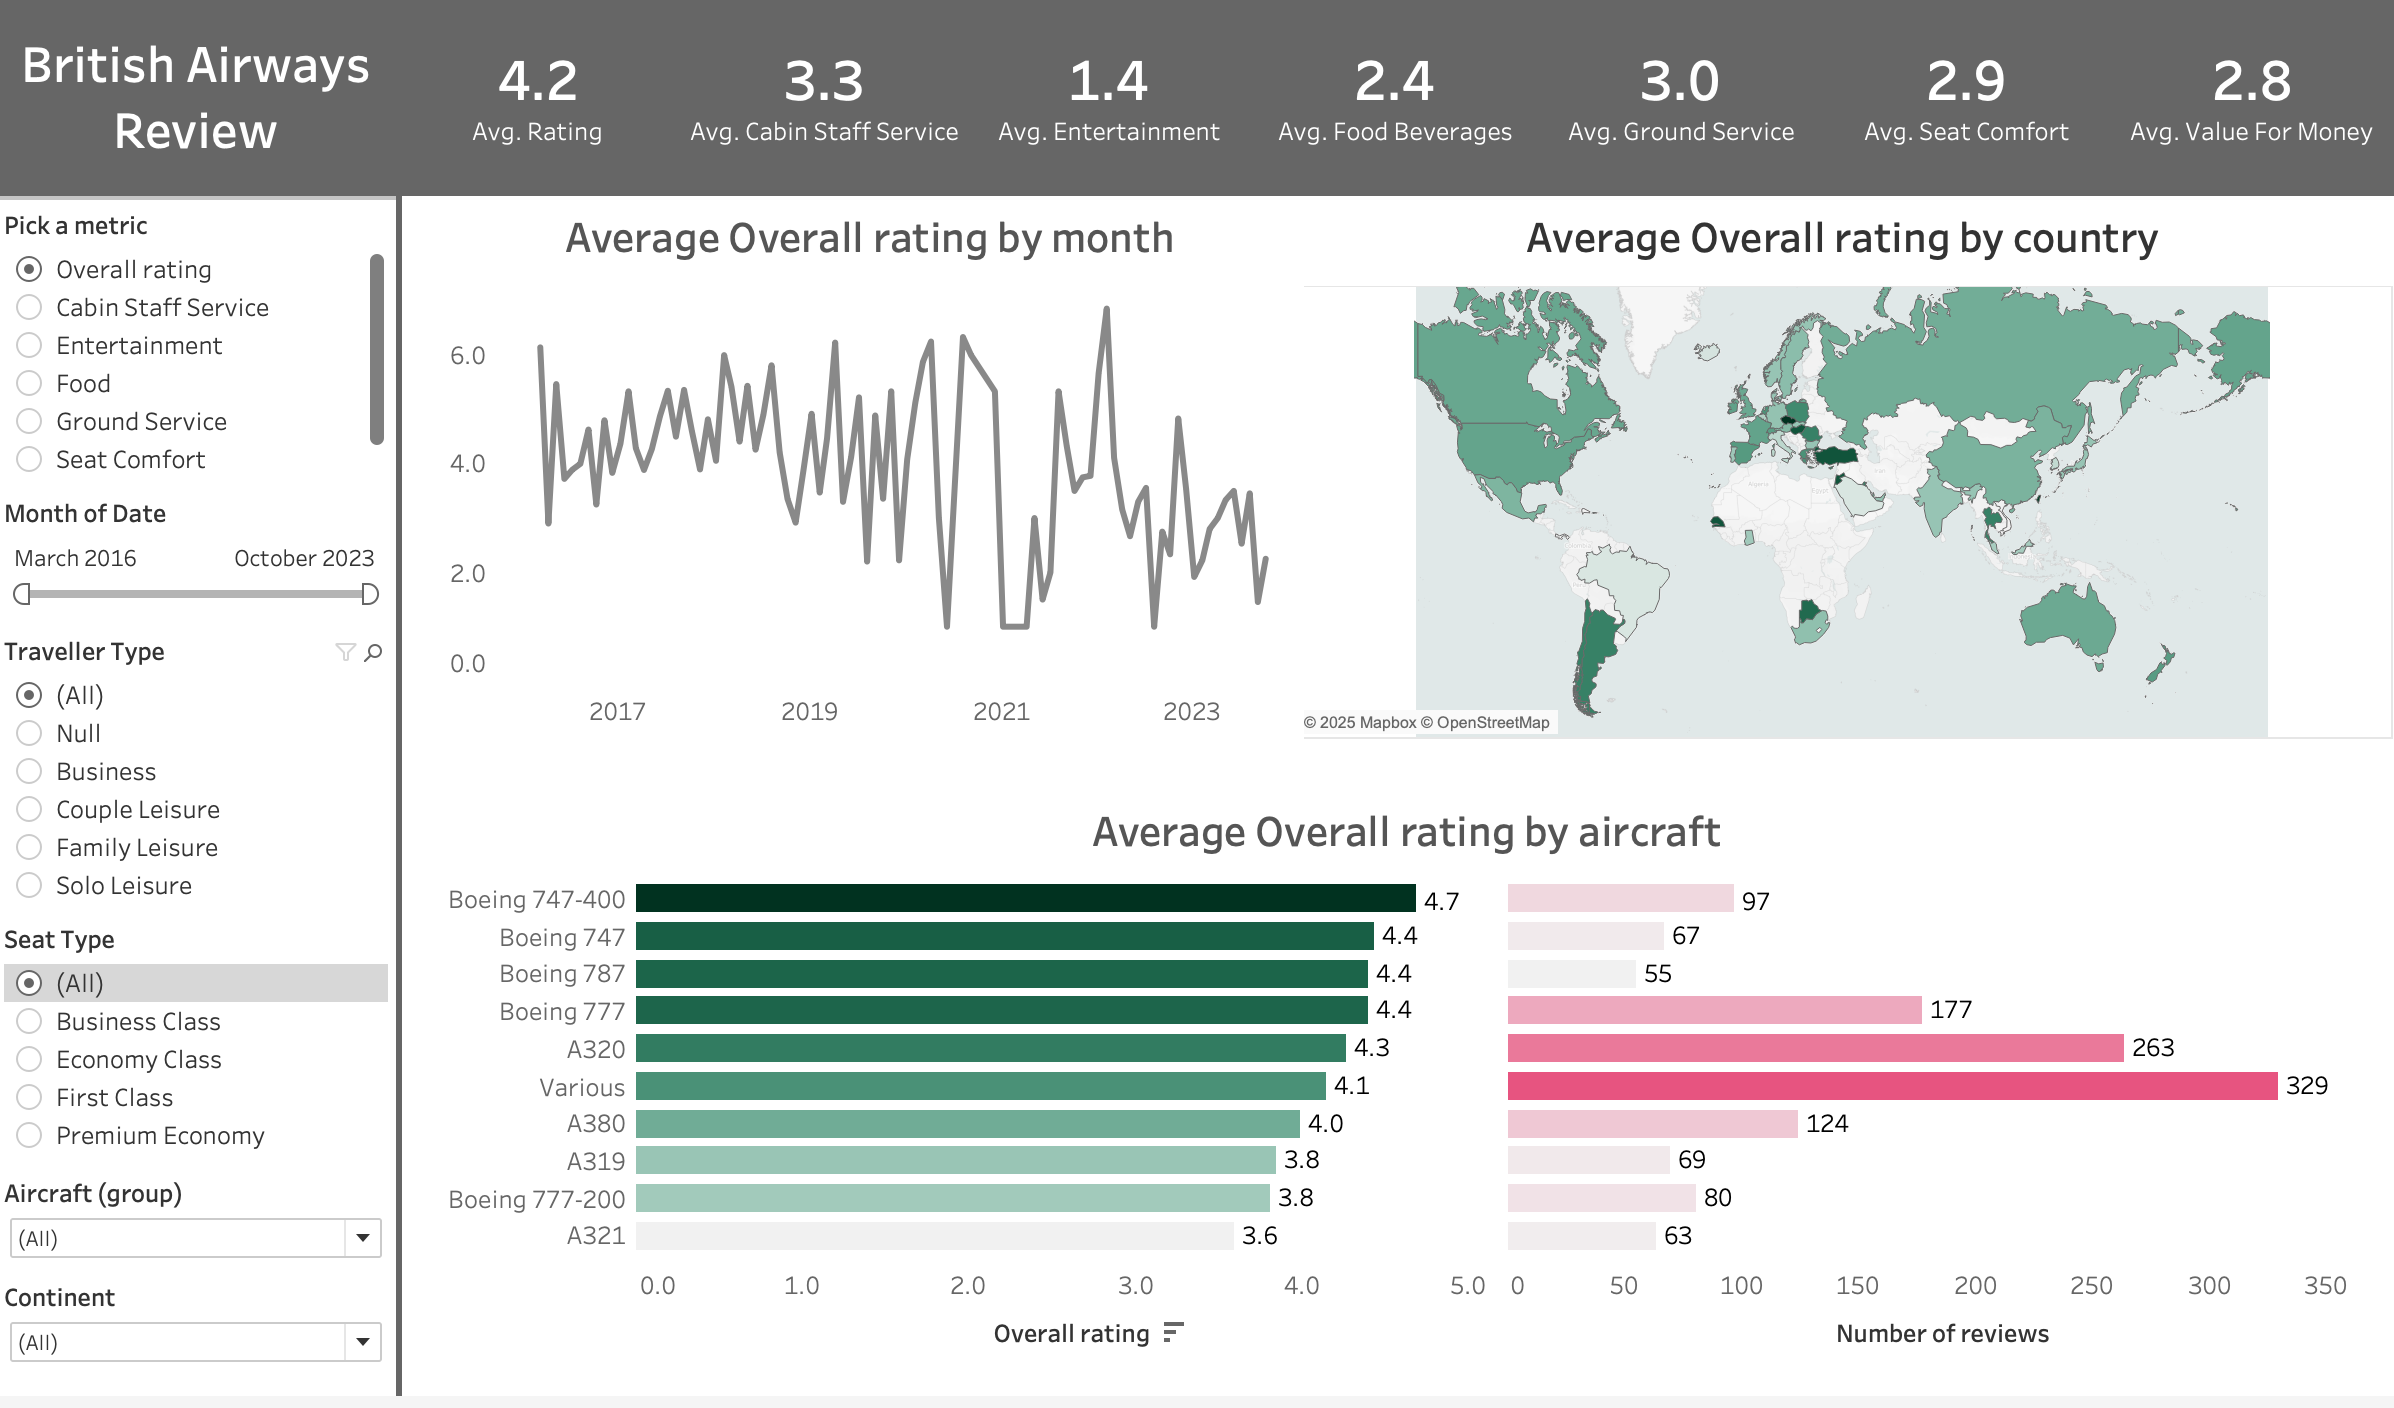

This screenshot's page, from the dashboard's own definition file:
{"tool":"tableau","page":{"name":"Dashboard 1","canvas":[1200,700],"ordinal":0},"visuals":[{"type":"text","box":[0,0,200,100]},{"type":"worksheet","title":"Summary","mark":"Automatic","box":[200,0,1000,100]},{"type":"blank","box":[200,100,3,600]},{"type":"parameter","param":"[Parameters].[Parameter 1]","box":[0,102,200,144]},{"type":"worksheet","title":"Month","mark":"Automatic","rows":["Calculation_726416554611089408"],"cols":["date"],"box":[220,102,434,270]},{"type":"worksheet","title":"Map","mark":"Automatic","box":[648,102,551,270]},{"type":"filter","title":"Map","param":"[federated.0k8ocrt0e6971l149qilb1hbkdu0].[tmn:date:qk]","box":[0,246,200,69]},{"type":"filter","title":"Map","param":"[federated.0k8ocrt0e6971l149qilb1hbkdu0].[none:traveller_type:nk]","box":[0,315,200,144]},{"type":"worksheet","title":"Aircraft","mark":"Automatic","cols":["Calculation_726416554611089408","ba_reviews.csv_A6CB95FDE1464BF6A6604D6D1B38E39E"],"box":[220,399,971,285]},{"type":"filter","title":"Map","param":"[federated.0k8ocrt0e6971l149qilb1hbkdu0].[none:seat_type:nk]","box":[0,459,200,127]},{"type":"filter","title":"Map","param":"[federated.0k8ocrt0e6971l149qilb1hbkdu0].[Aircraft (group)]","box":[0,586,200,52]},{"type":"filter","title":"Map","param":"[federated.0k8ocrt0e6971l149qilb1hbkdu0].[none:Continent:nk]","box":[0,638,200,52]}]}

Visuals, with their boxes in screenshot pixels (x1, y1, x2, y2), scaled from the page's 1200x700 canvas onto the 2394x1408 screenshot:
text: detection(0, 0, 399, 201)
"Summary" worksheet: detection(399, 0, 2393, 201)
blank: detection(399, 201, 405, 1407)
parameter: detection(0, 205, 399, 495)
"Month" worksheet: detection(439, 205, 1305, 748)
"Map" worksheet: detection(1293, 205, 2392, 748)
"Map" filter: detection(0, 495, 399, 634)
"Map" filter: detection(0, 634, 399, 923)
"Aircraft" worksheet: detection(439, 803, 2376, 1376)
"Map" filter: detection(0, 923, 399, 1179)
"Map" filter: detection(0, 1179, 399, 1283)
"Map" filter: detection(0, 1283, 399, 1388)
